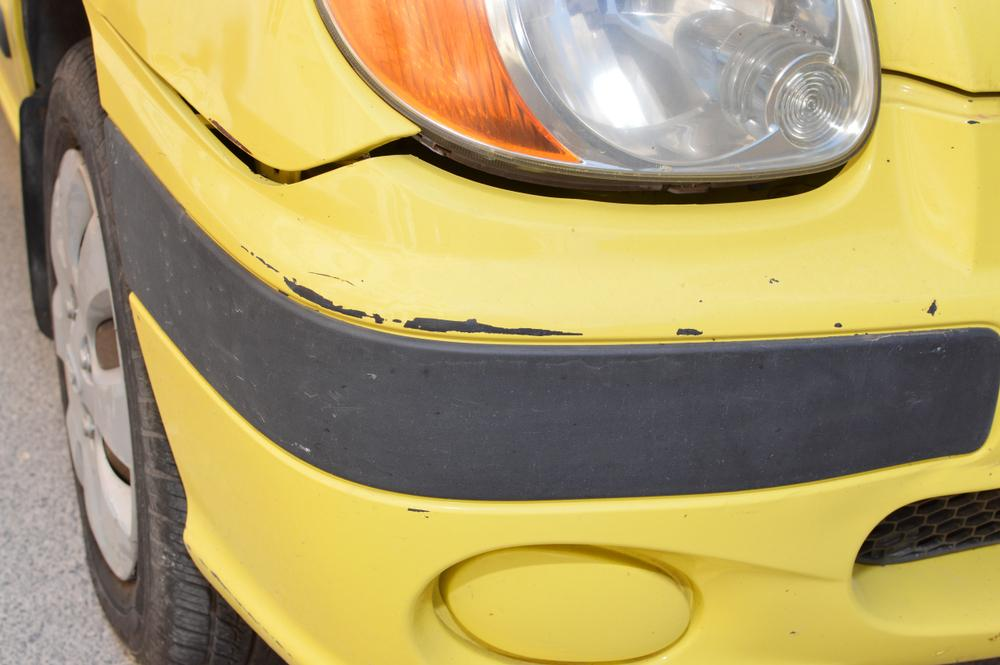scratch: (246, 246, 591, 342)
